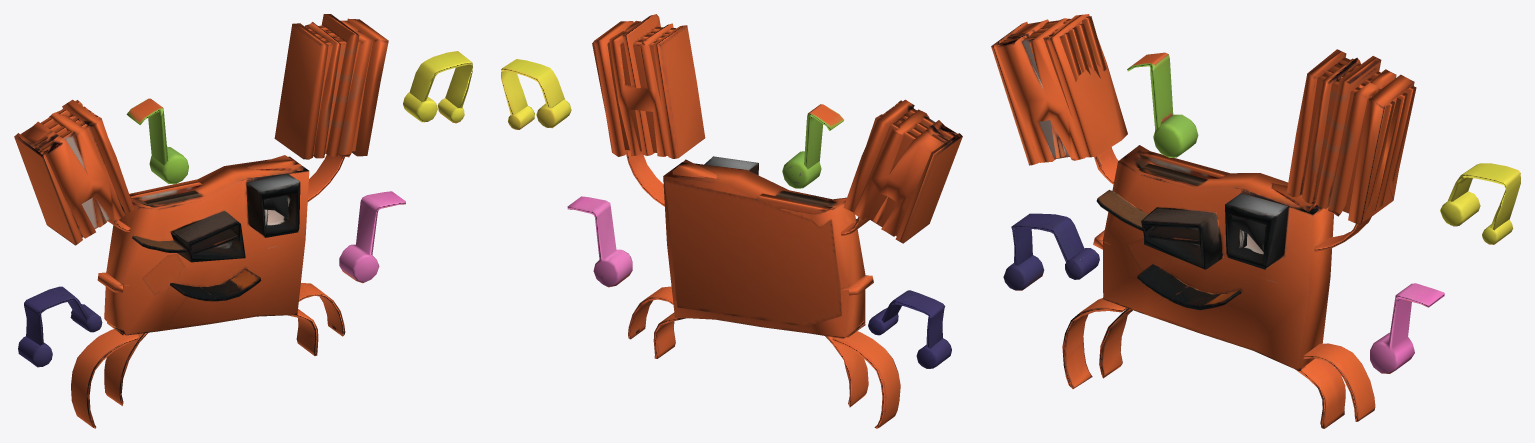
The model's file is beatboxer.glb.
3 renders of one model, left to right at view 1: azimuth 30°, elevation 25°; view 2: azimuth 150°, elevation 25°; view 3: azimuth 330°, elevation 25°, orthographic. The views are drawn at different scales.
Visible parts, largest first — view 1: mesh_node; view 2: mesh_node; view 3: mesh_node.
Boxes of the visible parts, box(x1,y1,x2,y2) form: mesh_node: box(14, 14, 472, 428); mesh_node: box(501, 14, 962, 428); mesh_node: box(991, 14, 1520, 428).
Bounding box in the file's own units: 1 × 0.7383 × 0.1401.
Materials: 1 (1 with a texture image).
